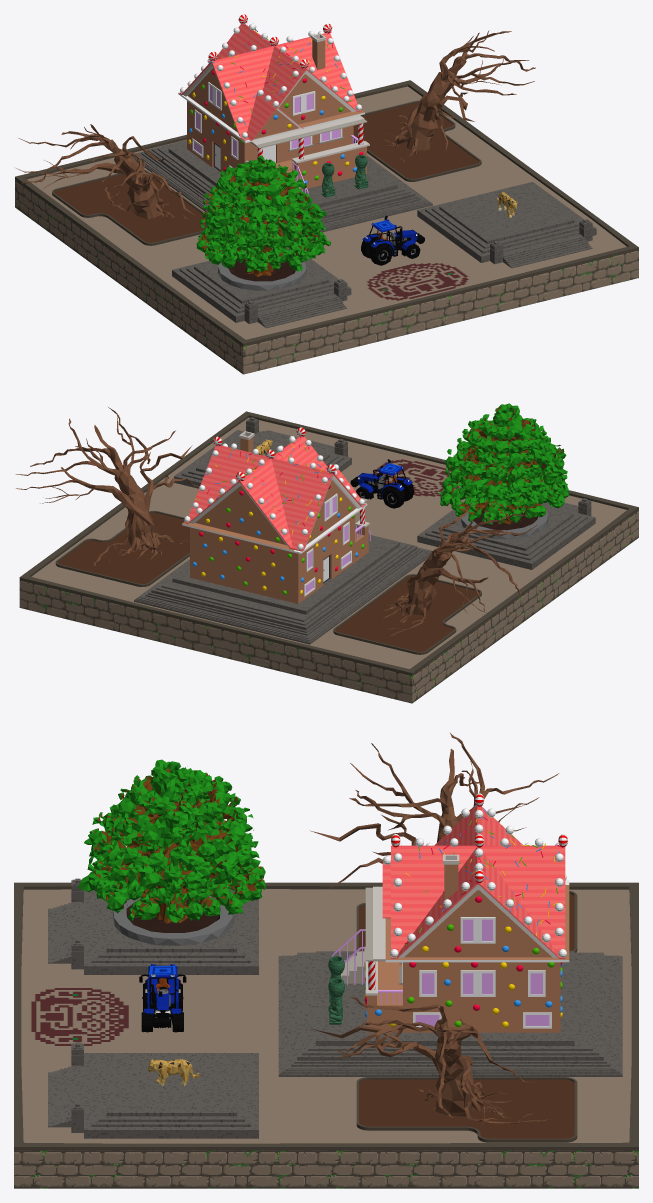
The picture shows the model from 3 angles, top to bottom: view 1: azimuth 30°, elevation 25°; view 2: azimuth 150°, elevation 25°; view 3: azimuth 270°, elevation 25°; orthographic projection. The views are drawn at different scales.
Visible parts, largest first — view 1: Cube.011, Cube.1203, OBJRANDOM_CEIBA, VEHICLES_TRACTOR; view 2: Cube.011, Cube.1203, OBJRANDOM_CEIBA, VEHICLES_TRACTOR; view 3: Cube.011, Cube.1203, OBJRANDOM_CEIBA, VEHICLES_TRACTOR, ANIMAL_JAGUAR.
Part boxes in pixels (<box>): Cube.011: <box>15,30,638,374</box>; Cube.1203: <box>178,14,369,194</box>; OBJRANDOM_CEIBA: <box>196,155,330,290</box>; VEHICLES_TRACTOR: <box>361,215,424,265</box>; Cube.011: <box>15,407,638,703</box>; Cube.1203: <box>182,427,370,603</box>; OBJRANDOM_CEIBA: <box>439,403,568,538</box>; VEHICLES_TRACTOR: <box>350,459,413,508</box>; Cube.011: <box>14,733,638,1188</box>; Cube.1203: <box>332,793,569,1032</box>; OBJRANDOM_CEIBA: <box>78,759,266,945</box>; VEHICLES_TRACTOR: <box>139,964,186,1032</box>; ANIMAL_JAGUAR: <box>148,1059,199,1086</box>.
Bounding box in the file's own units: 5099 × 1662 × 4000.
46 materials, 6 textured.
